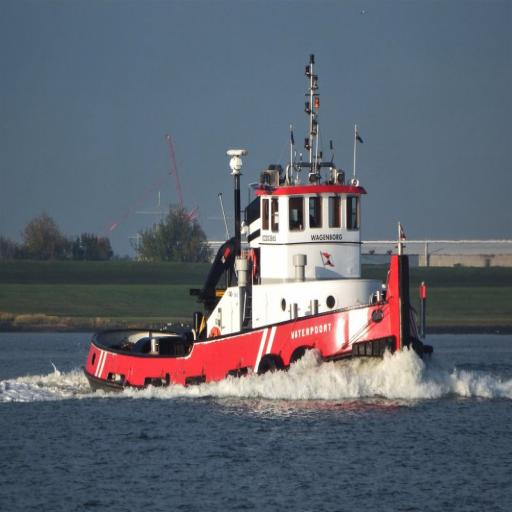tugboat: (80, 51, 438, 413)
